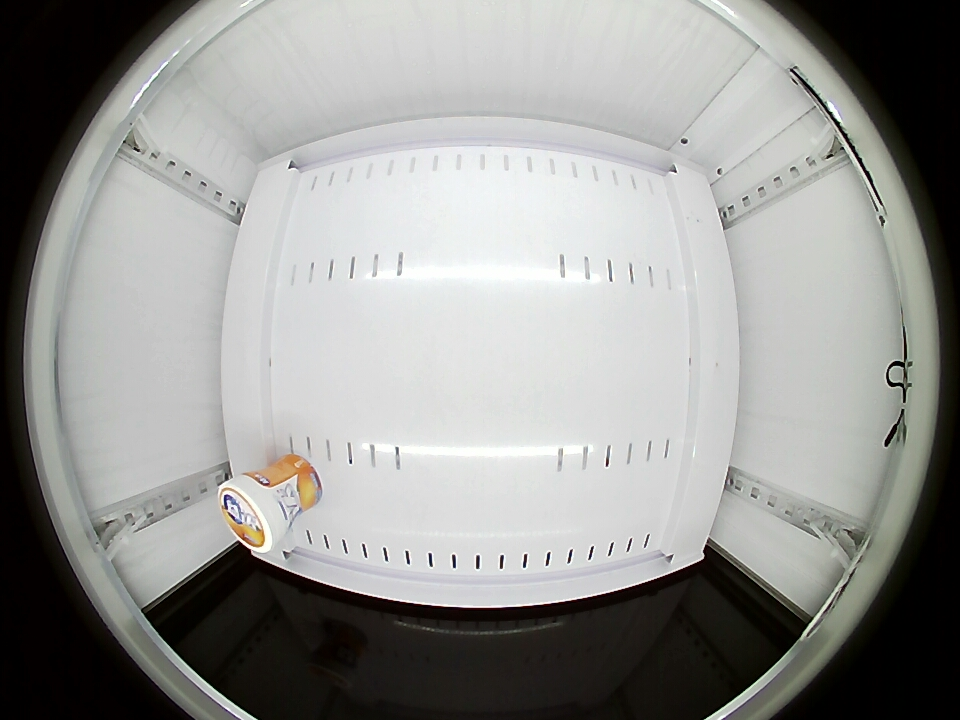yida: (218, 473, 291, 553)
